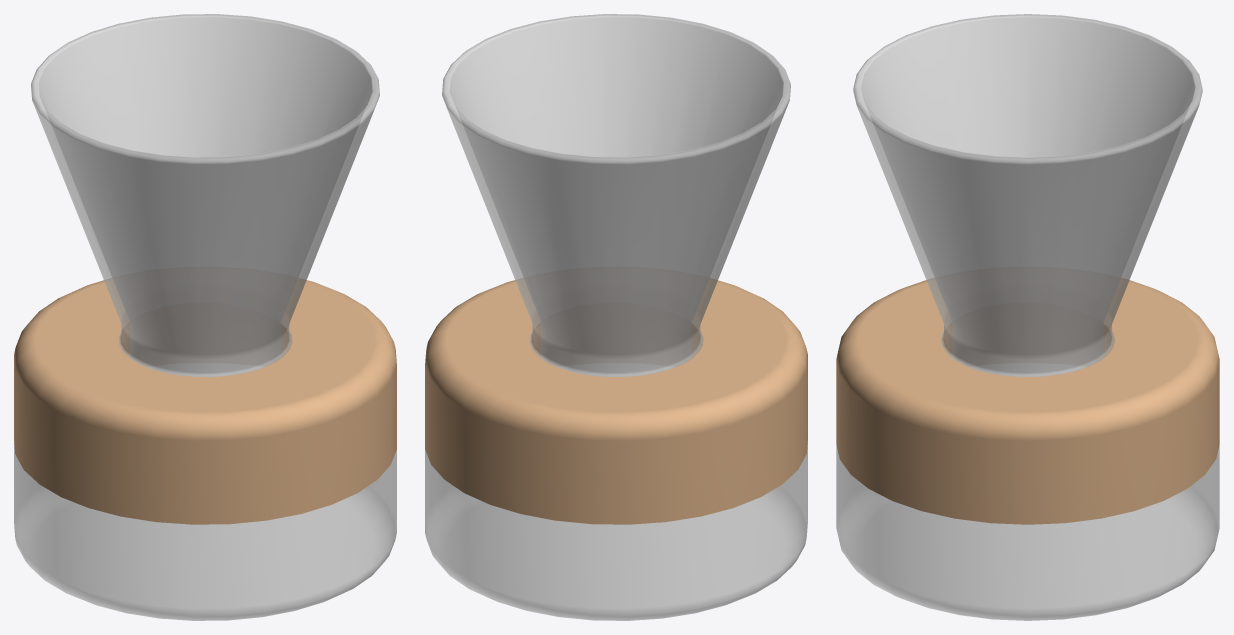
The model's file is Decor_5.FBX.
The picture shows the model from 3 angles, left to right: view 1: azimuth 30°, elevation 25°; view 2: azimuth 150°, elevation 25°; view 3: azimuth 270°, elevation 25°; orthographic projection.
Visible parts, largest first — view 1: SM_Decor_5; view 2: SM_Decor_5; view 3: SM_Decor_5.
Boxes of the visible parts, x1,y1,x2,y2 form: SM_Decor_5: [14, 14, 396, 620]; SM_Decor_5: [425, 14, 807, 620]; SM_Decor_5: [836, 14, 1219, 620].
Size of the model in its own units: 11.87 by 15.74 by 11.87.
